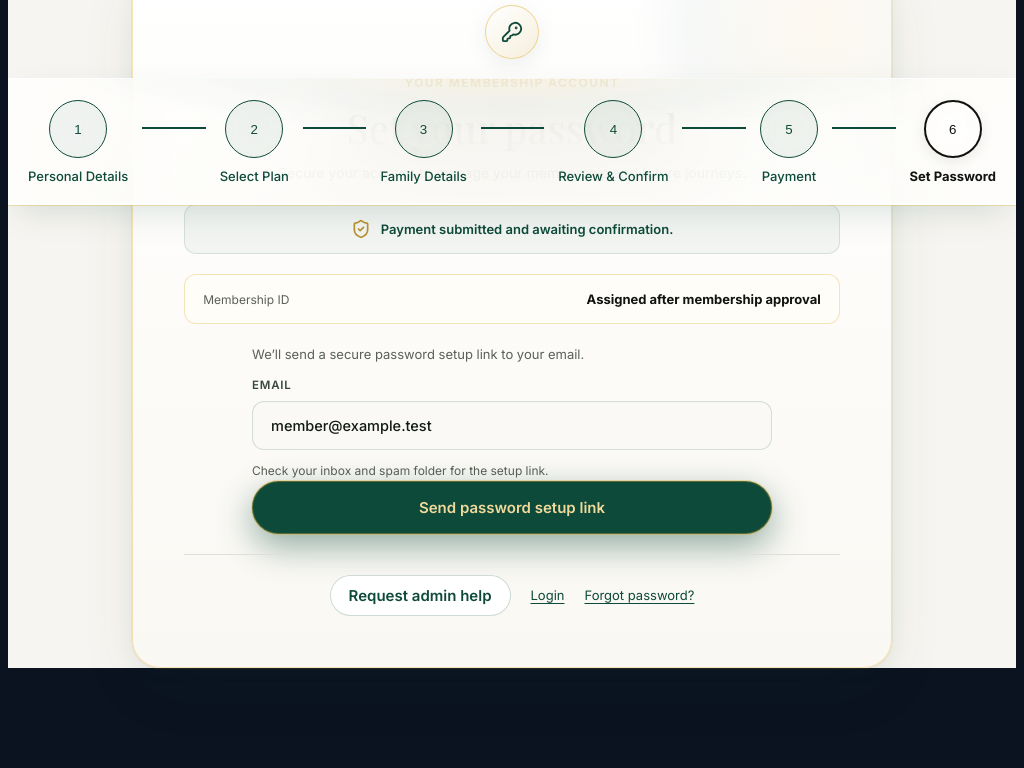
Test case: integrated membership application and payment flow › shows password-link request failures and leaves retries enabled
(page scrolled)
Click the button "Send password setup link" at (512, 507), box [252, 481, 772, 534]
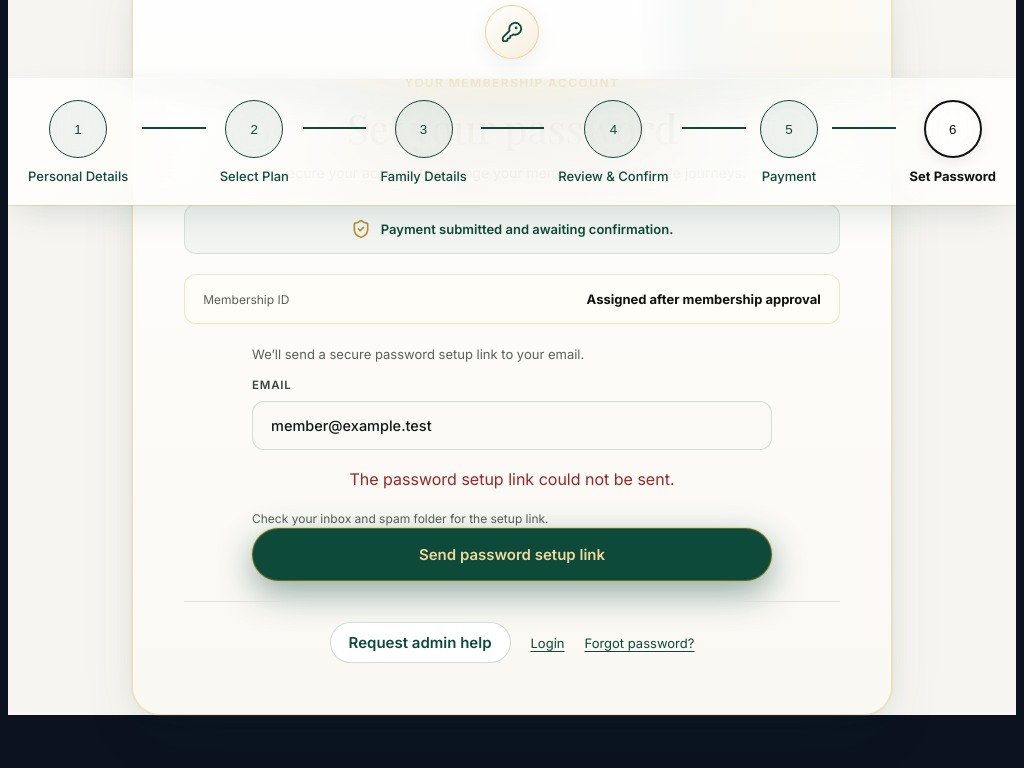
Expected: the button "Send password setup link" is enabled, [252, 528, 772, 581]
Expected: the message "The password setup link could not be sent." is shown, [350, 469, 674, 489]
